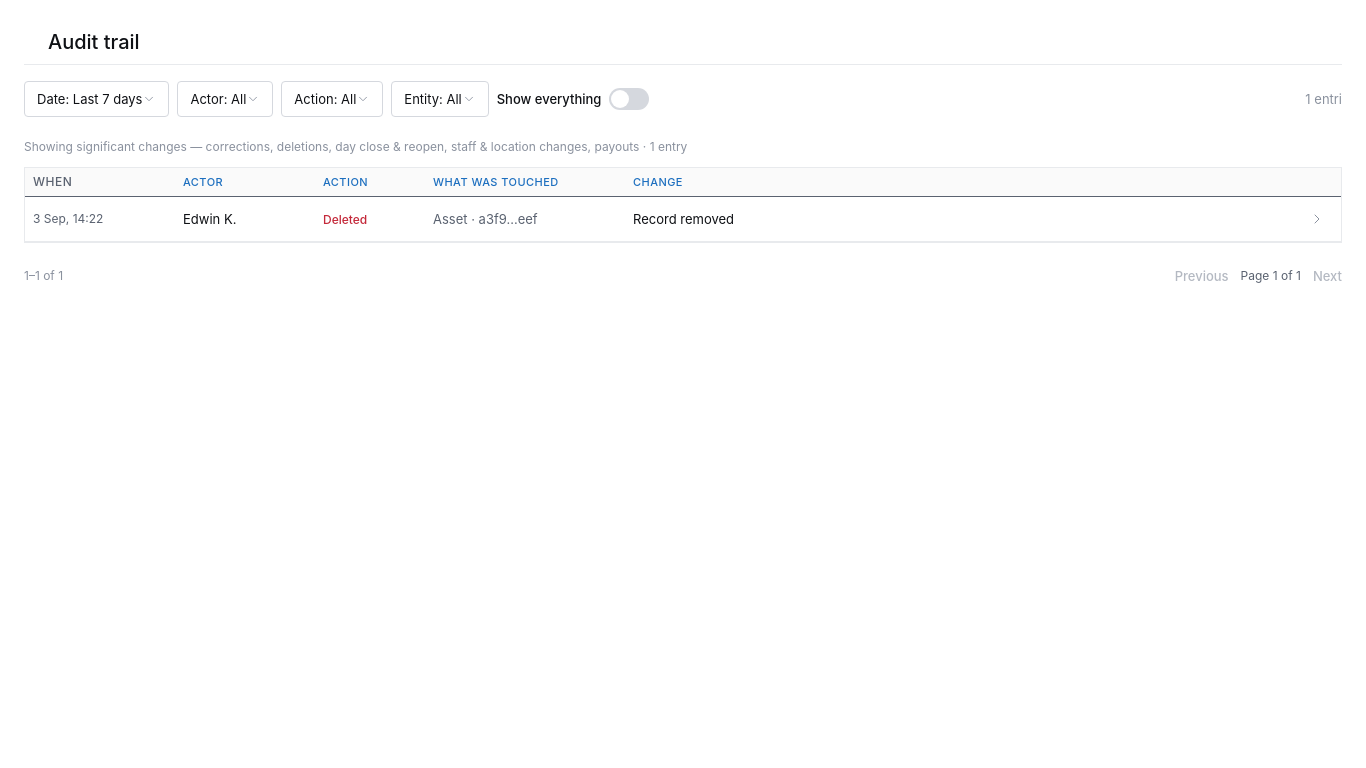
Test: /admin/audit-trail › falls back to raw Before / After blocks when the JSON doesn't reduce to field pairs
Click the row named "Deleted — Asset". click: coordinates (679, 219)
box: top-left (33, 211), bottom-right (1325, 227)
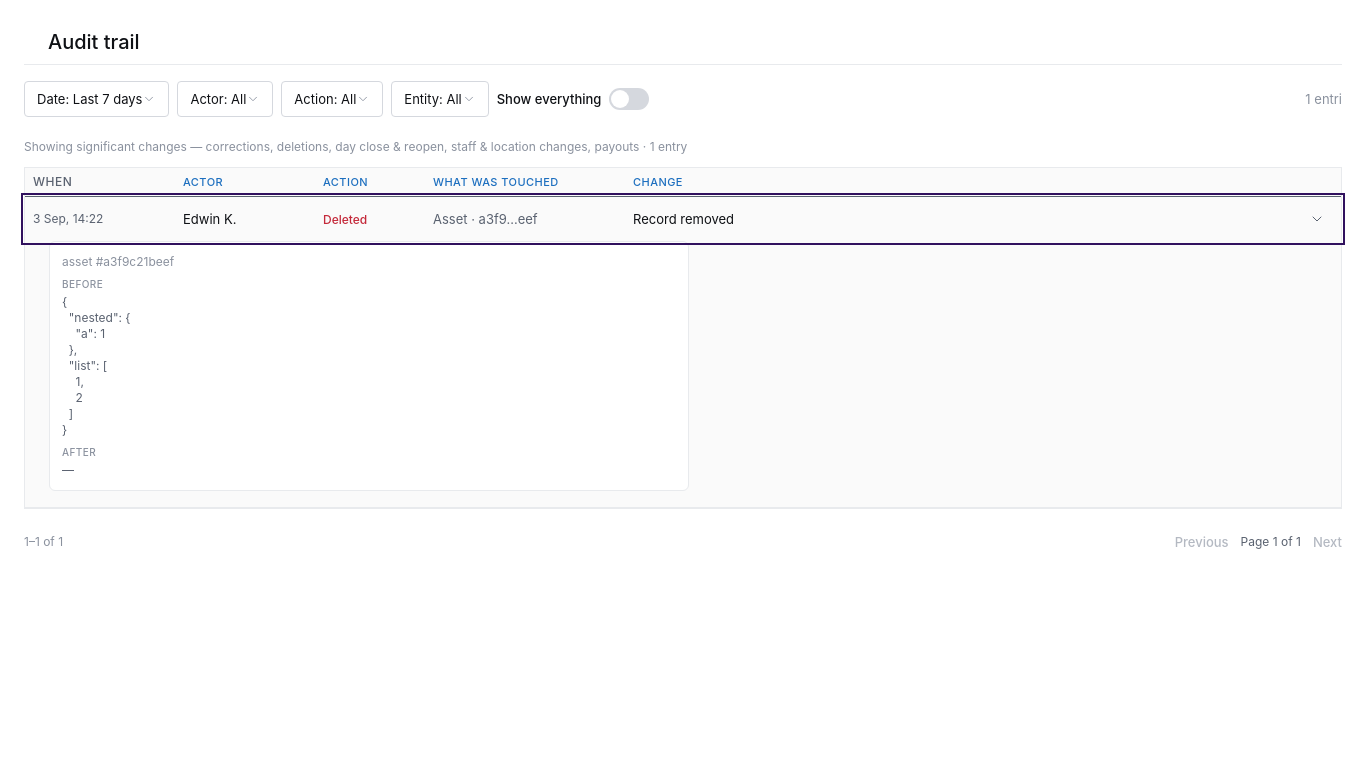
Result: the text "Before" is shown at top-left (62, 278), bottom-right (103, 290)
Result: the text "After" is shown at top-left (62, 446), bottom-right (96, 458)
Result: the text "asset #a3f9c21beef" is shown at top-left (62, 254), bottom-right (174, 269)
